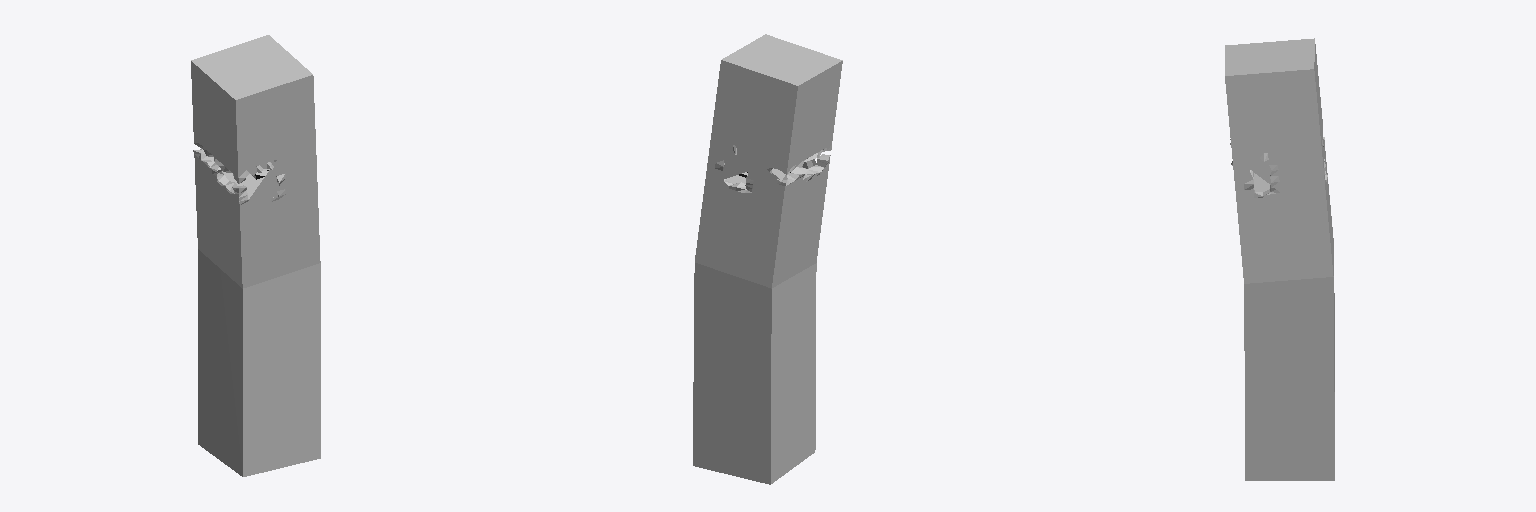
Rendered from falling_skyscrapper.obj.
3 views of the same model, side by side, from view 1: azimuth 30°, elevation 25°; view 2: azimuth 150°, elevation 25°; view 3: azimuth 270°, elevation 25° (orthographic).
Visible parts, largest first — view 1: Cube; view 2: Cube; view 3: Cube.
Boxes of the visible parts, <box> form: Cube: <box>191,35,320,476</box>; Cube: <box>693,34,842,484</box>; Cube: <box>1225,38,1334,480</box>.
Bounding box in the file's own units: 2.45 × 9.89 × 2.46.